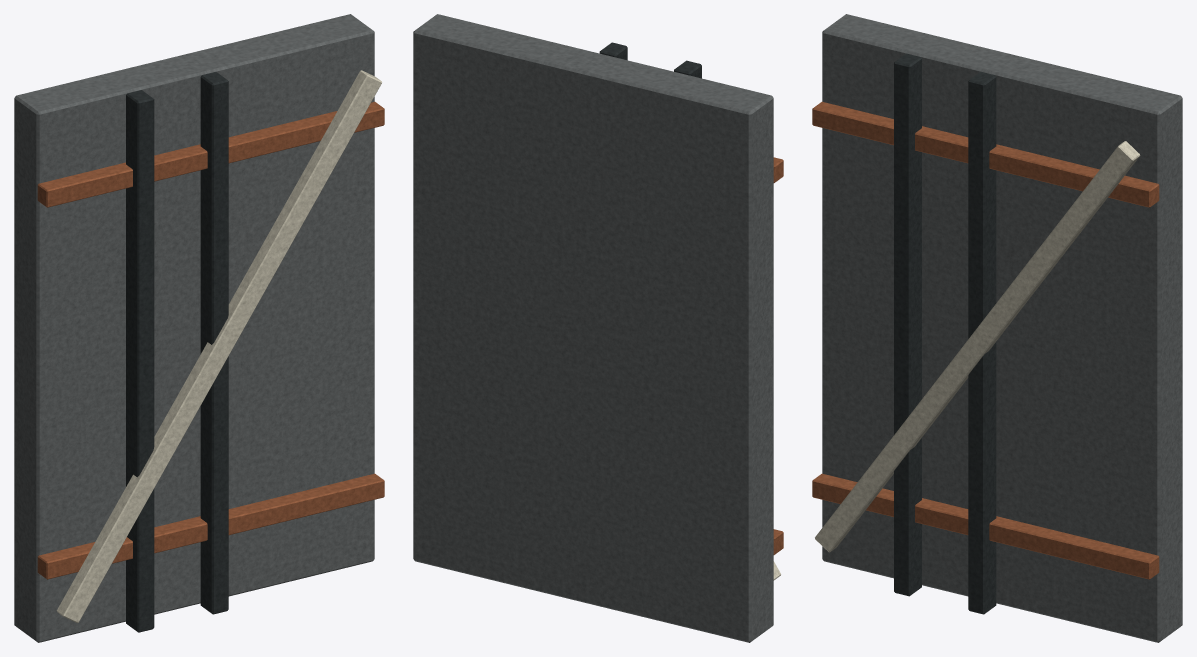
File: METL21CC_lod1.glb
3 views of the same model, side by side, from view 1: azimuth 30°, elevation 25°; view 2: azimuth 150°, elevation 25°; view 3: azimuth 330°, elevation 25° (orthographic).
Visible parts, largest first — view 1: METL21CC_LOD1; view 2: METL21CC_LOD1; view 3: METL21CC_LOD1.
Part boxes in pixels (bbox=[...]): METL21CC_LOD1: bbox=[14, 14, 384, 642]; METL21CC_LOD1: bbox=[413, 14, 783, 642]; METL21CC_LOD1: bbox=[812, 14, 1182, 642].
Bounding box in the file's own units: 2 × 3 × 0.42.
Materials: 4 (4 with a texture image).
